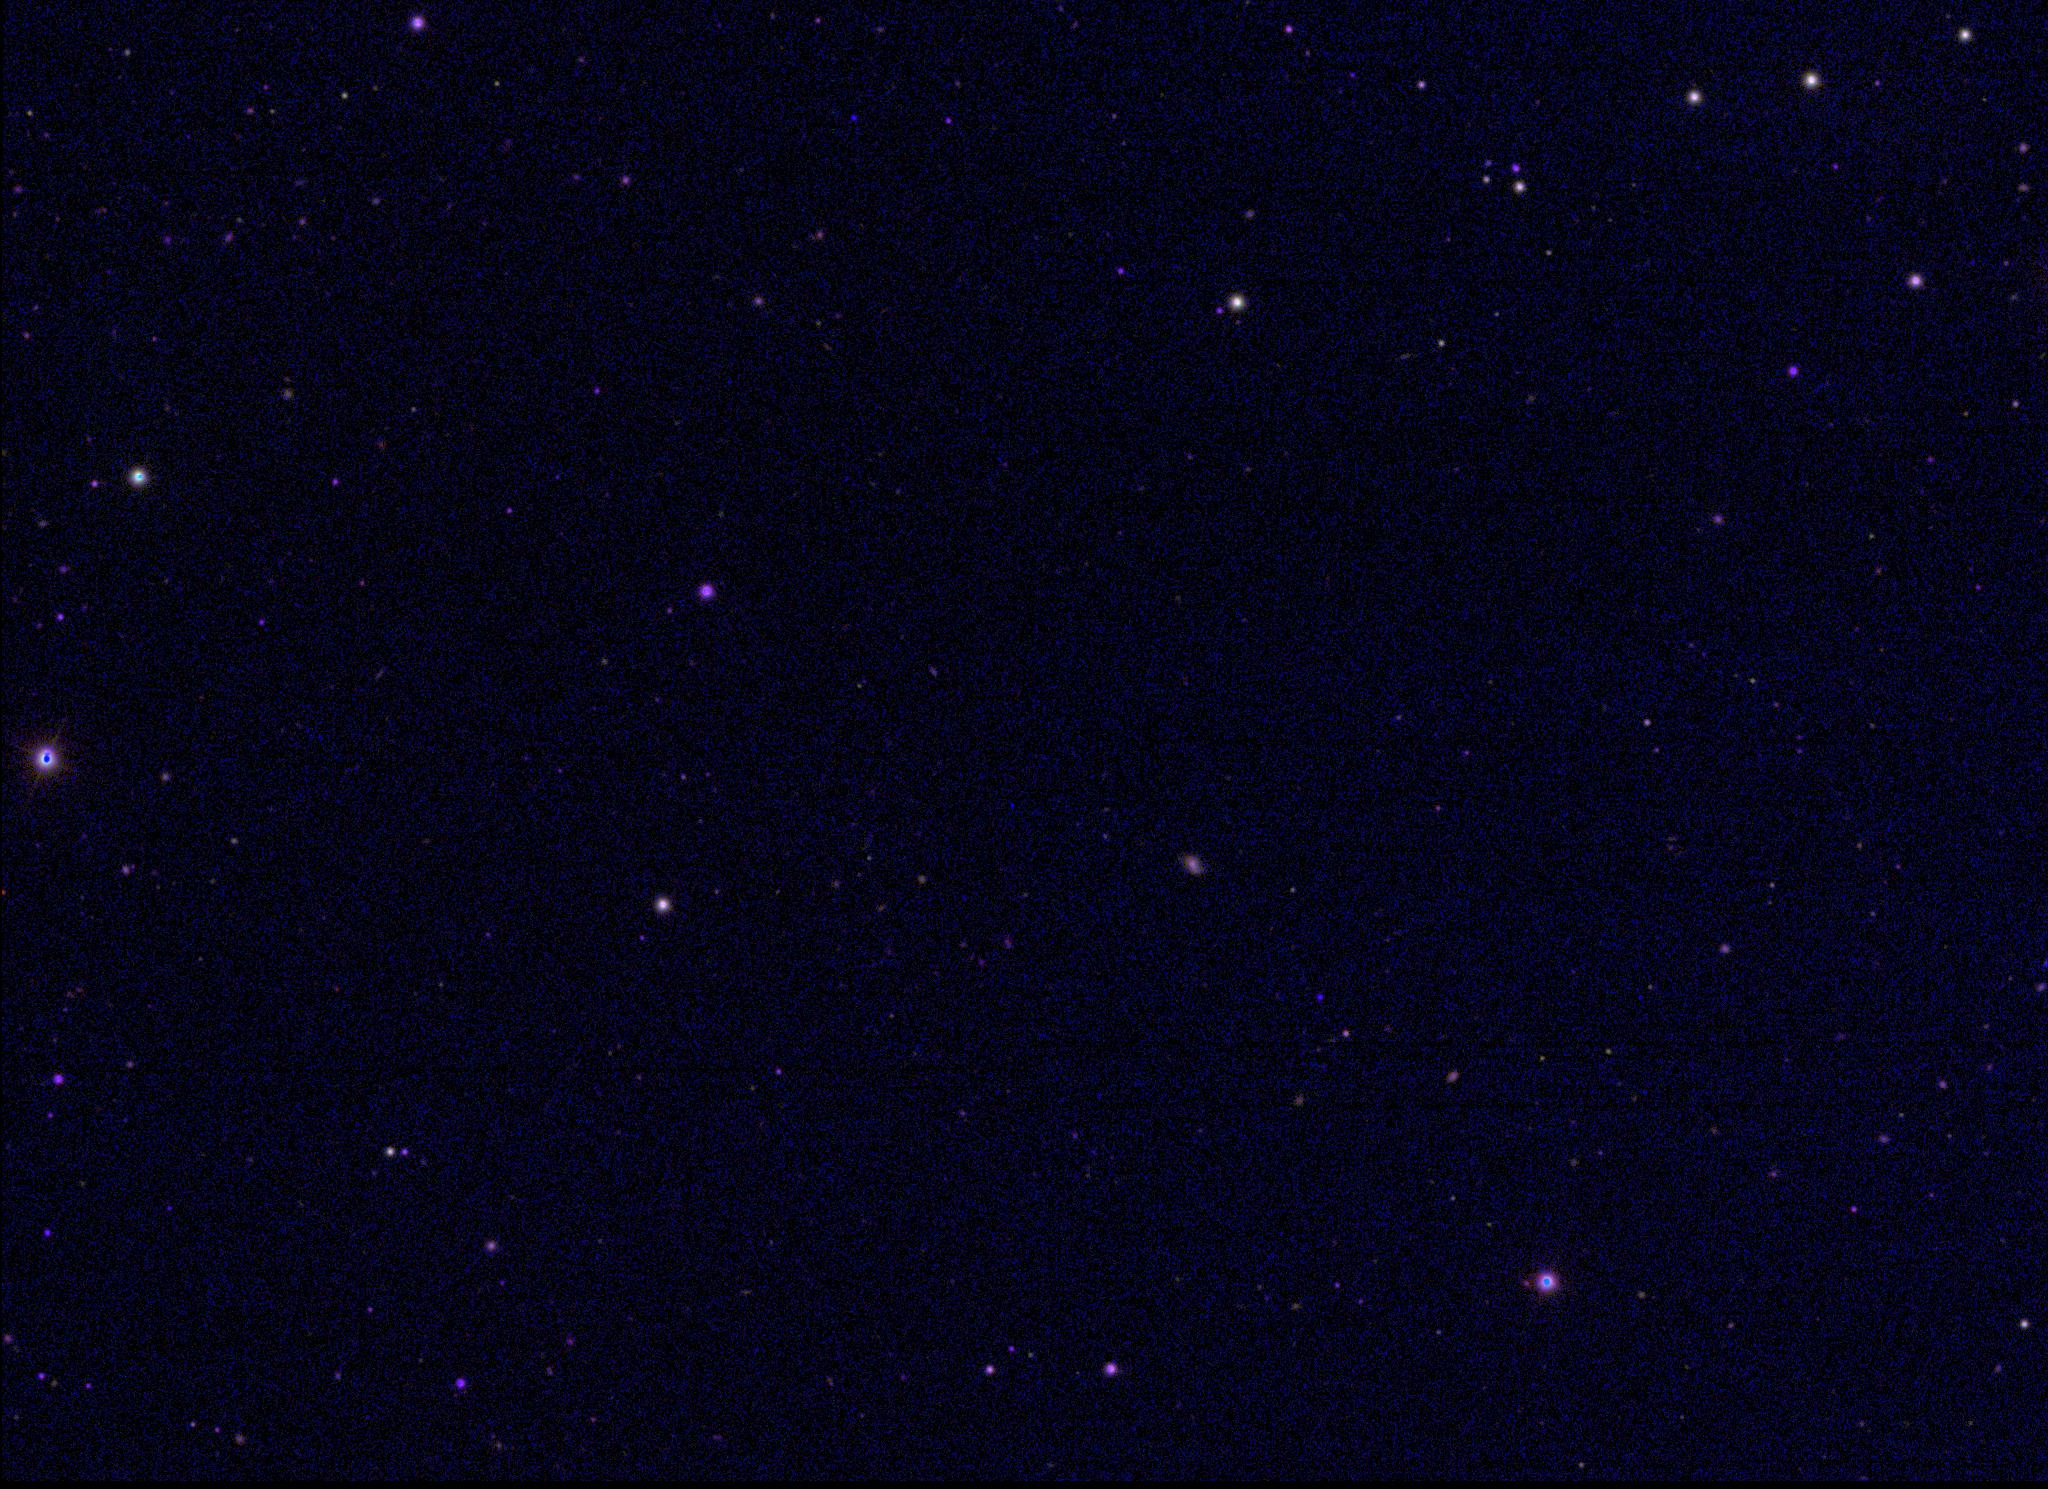L: (848, 111, 860, 126)
